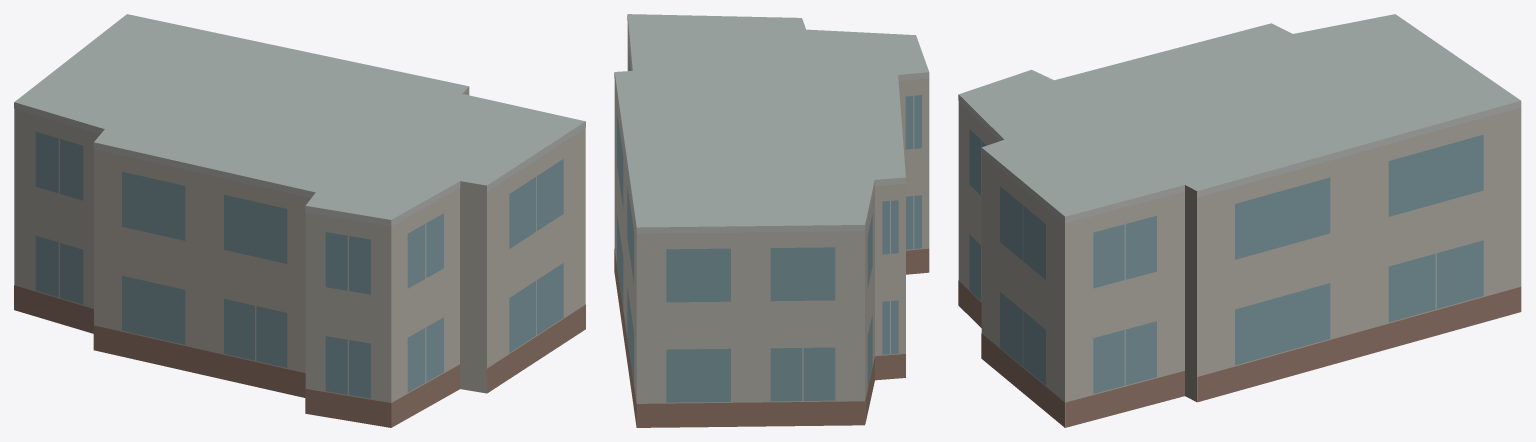
Rendered from survey-upis-32957509.glb.
3 renders of one model, left to right at view 1: azimuth 30°, elevation 25°; view 2: azimuth 150°, elevation 25°; view 3: azimuth 270°, elevation 25°, orthographic. The views are drawn at different scales.
Parts seen in each view (by area): view 1: survey-upis-32957509.tmp; view 2: survey-upis-32957509.tmp; view 3: survey-upis-32957509.tmp.
Part boxes in pixels (x1,y1,x2,y2): survey-upis-32957509.tmp: (14, 14, 585, 427); survey-upis-32957509.tmp: (614, 14, 929, 427); survey-upis-32957509.tmp: (958, 14, 1521, 427).
Size of the model in its own units: 16.27 by 7.9 by 19.09.
